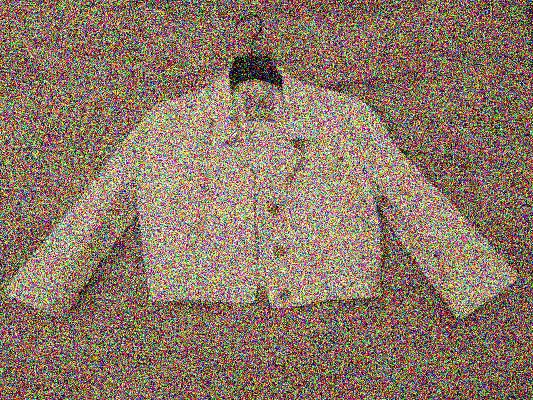Blazer: (18, 60, 512, 353)
